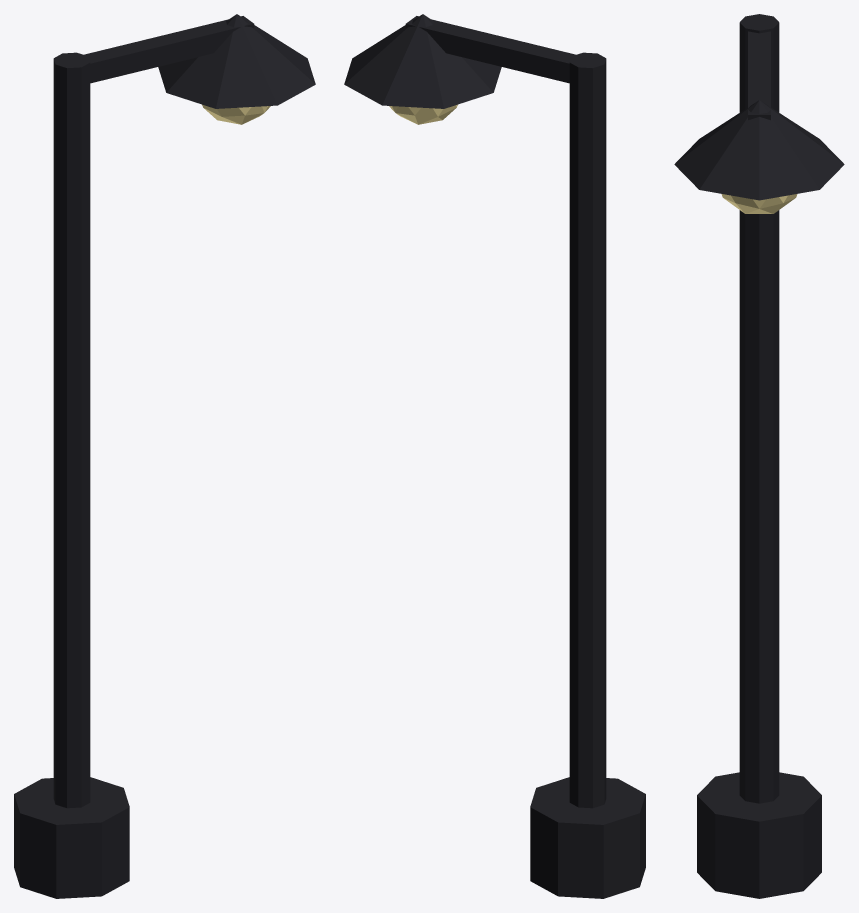
Rendered from street_lamp.glb.
3 renders of one model, left to right at view 1: azimuth 30°, elevation 25°; view 2: azimuth 150°, elevation 25°; view 3: azimuth 270°, elevation 25°, orthographic. The views are drawn at different scales.
Visible parts, largest first — view 1: street_lamp; view 2: street_lamp; view 3: street_lamp.
Part boxes in pixels (x1,y1,x2,y2): street_lamp: [14, 14, 315, 898]; street_lamp: [344, 14, 645, 898]; street_lamp: [674, 14, 844, 898].
Size of the model in its own units: 1.22 by 3.33 by 0.6.
